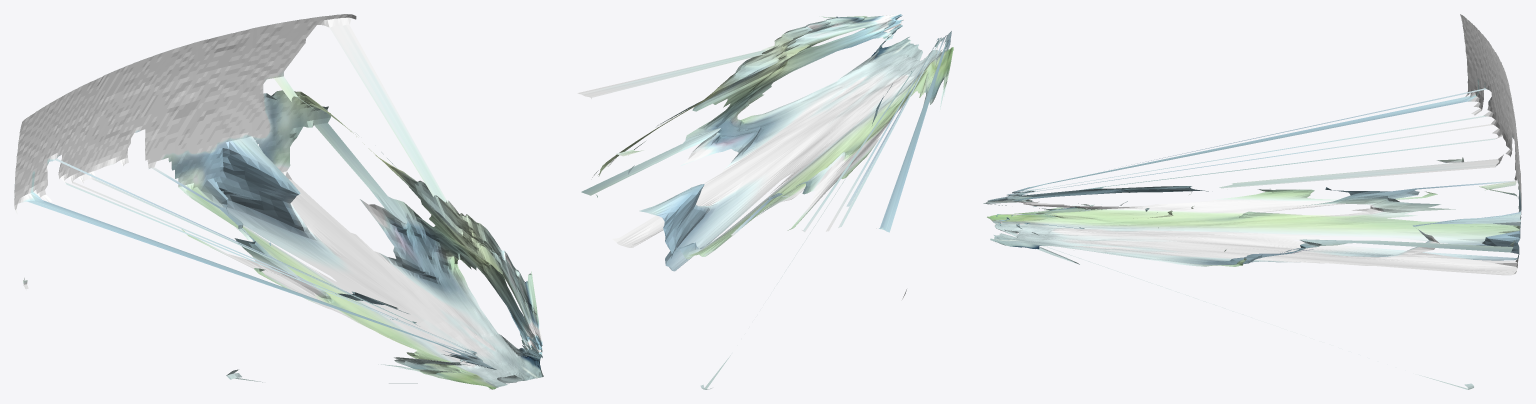
3 renders of one model, left to right at view 1: azimuth 30°, elevation 25°; view 2: azimuth 150°, elevation 25°; view 3: azimuth 270°, elevation 25°, orthographic. The views are drawn at different scales.
Parts seen in each view (by area): view 1: defaultobject; view 2: defaultobject; view 3: defaultobject.
Part boxes in pixels (x1=…): defaultobject: x1=14, y1=14, x2=543, y2=389; defaultobject: x1=577, y1=14, x2=953, y2=389; defaultobject: x1=983, y1=14, x2=1521, y2=389.
Bounding box in the file's own units: 31.01 × 26.83 × 45.36.
Materials: 1 (1 with a texture image).
